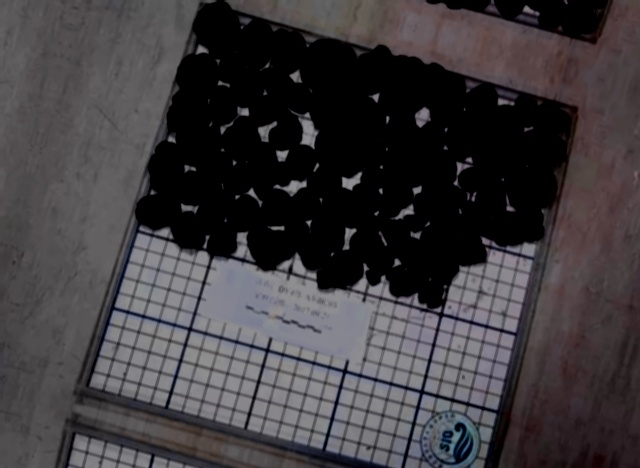halobolite: (186, 1, 250, 61), (239, 30, 292, 88), (267, 131, 342, 171), (428, 212, 481, 259), (504, 167, 558, 213), (350, 46, 402, 93), (473, 100, 526, 145), (489, 207, 543, 251), (301, 35, 340, 93), (315, 237, 361, 281), (297, 85, 346, 125), (346, 118, 390, 159), (180, 131, 218, 178), (388, 158, 439, 193), (213, 156, 248, 207), (476, 86, 524, 123), (256, 81, 296, 124), (201, 38, 240, 82), (436, 52, 475, 96), (170, 39, 208, 84), (429, 88, 476, 124), (139, 156, 182, 195), (451, 168, 499, 200), (337, 87, 376, 126), (408, 209, 452, 243), (260, 185, 302, 219), (225, 114, 258, 157), (385, 64, 422, 102), (353, 153, 385, 196), (397, 138, 442, 167), (204, 77, 239, 114), (444, 123, 478, 161), (390, 113, 420, 156), (294, 179, 331, 213), (154, 110, 188, 147), (154, 202, 193, 234), (177, 85, 207, 126), (335, 211, 370, 246), (274, 161, 315, 190), (206, 209, 238, 246), (291, 210, 329, 241), (285, 230, 317, 266), (238, 195, 268, 233), (199, 106, 233, 138), (414, 242, 447, 274), (251, 145, 283, 178), (164, 175, 197, 206), (432, 71, 460, 107), (360, 196, 393, 226), (324, 185, 359, 213), (194, 179, 222, 214), (323, 166, 357, 193), (231, 86, 260, 117), (262, 217, 293, 244), (387, 205, 413, 237), (178, 225, 203, 258), (395, 235, 423, 263), (363, 224, 388, 250), (328, 146, 353, 171), (380, 180, 406, 204), (241, 167, 264, 193), (425, 121, 449, 145), (376, 235, 399, 258), (355, 247, 380, 267), (385, 254, 412, 272)
